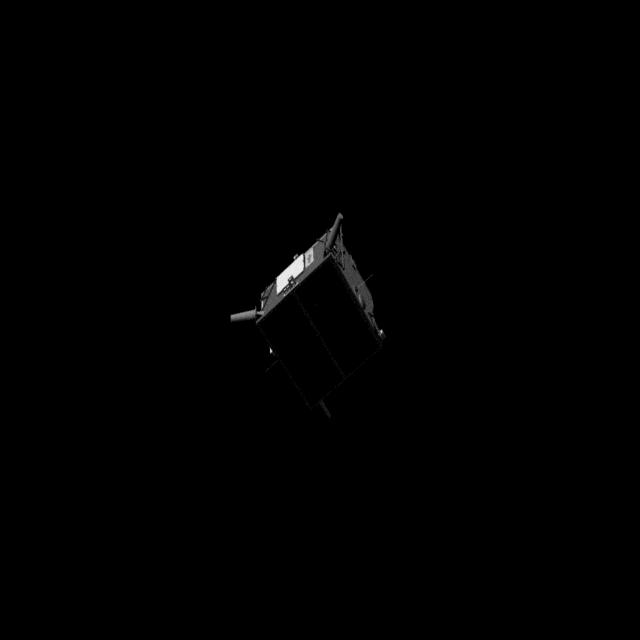medium_debris: (224, 214, 382, 414)
